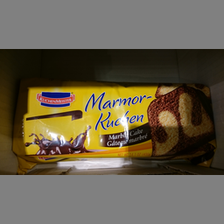cake: (11, 77, 219, 171)
